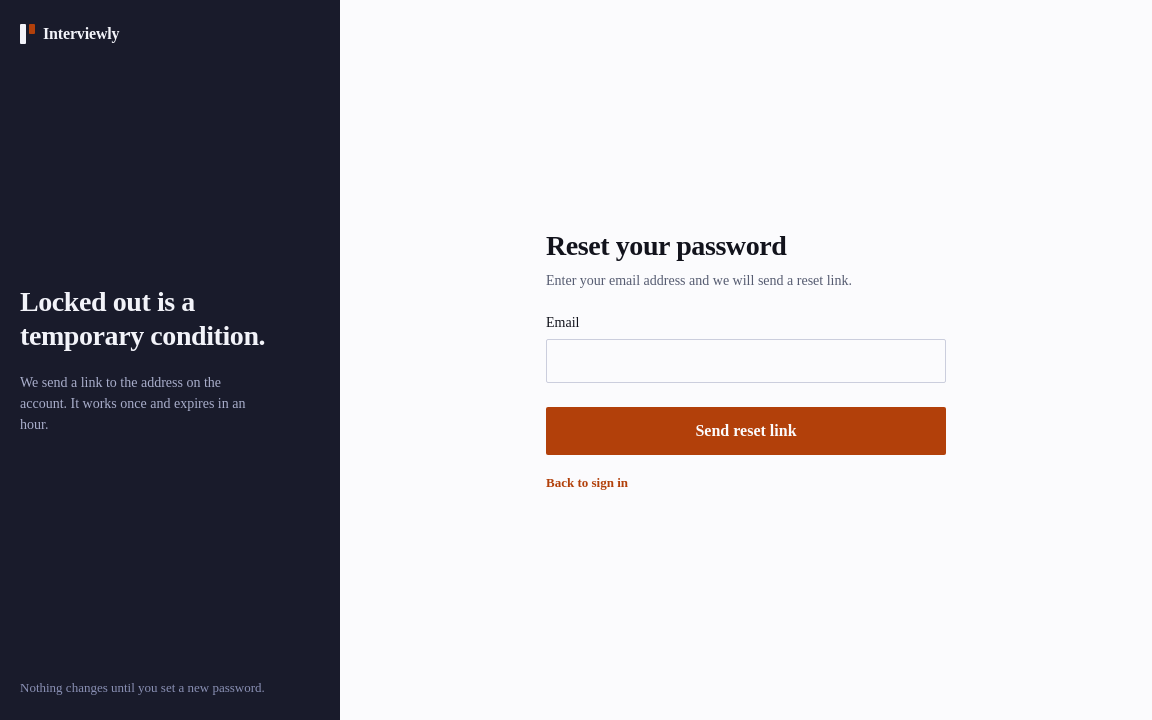
Test: forgot-password page › renders the rate-limit refusal from the registry
Type "known@example.com" into the field labelled "Email" at (746, 360), box [546,338,946,382]
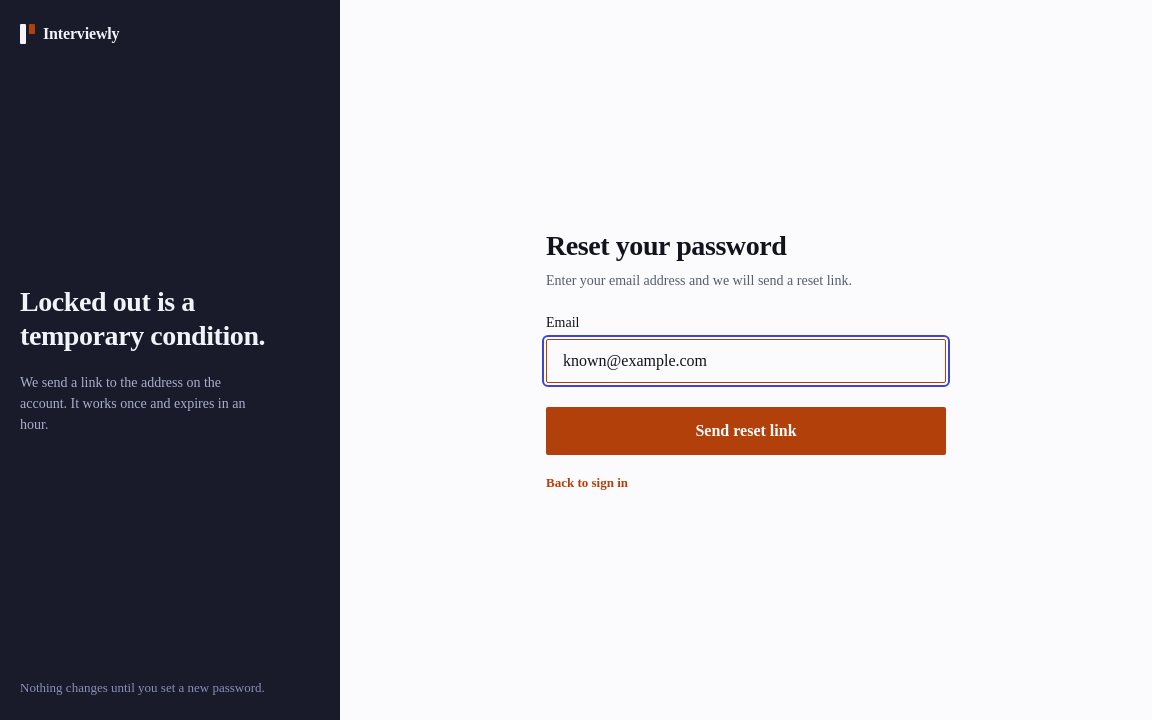
Click the button "Send reset link" at (746, 430), box [546,406,946,454]
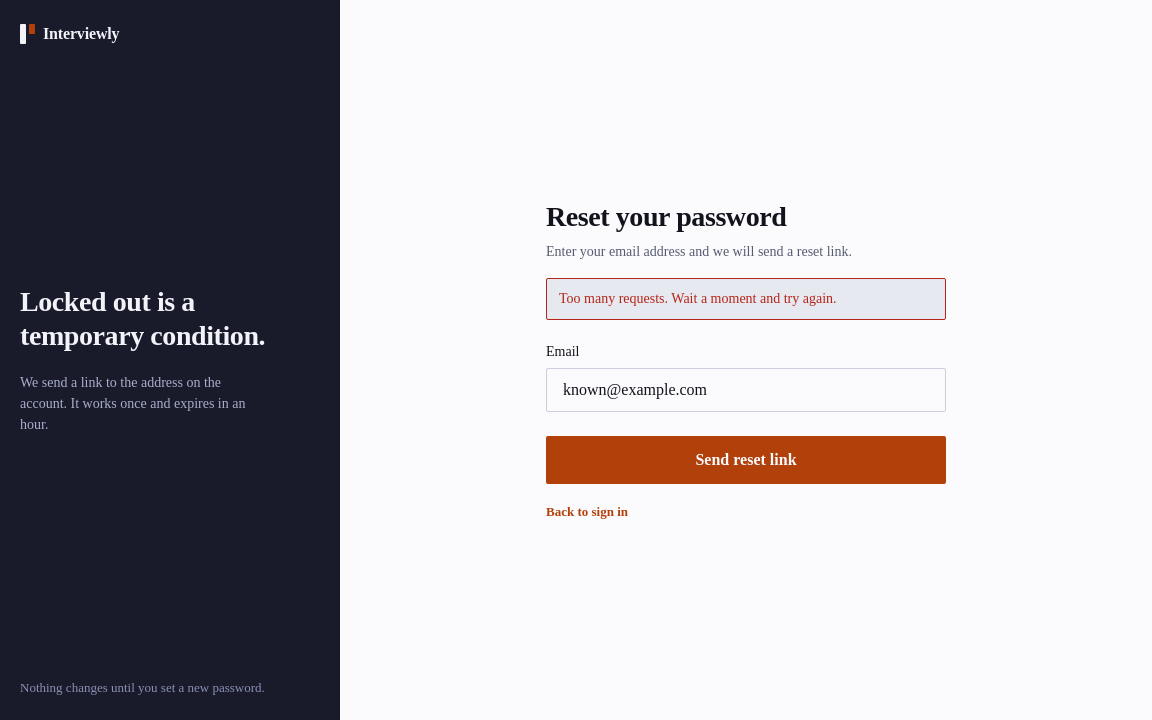
Expected: the message reads "Too many requests. Wait a moment and try again.", [559,290,837,306]
